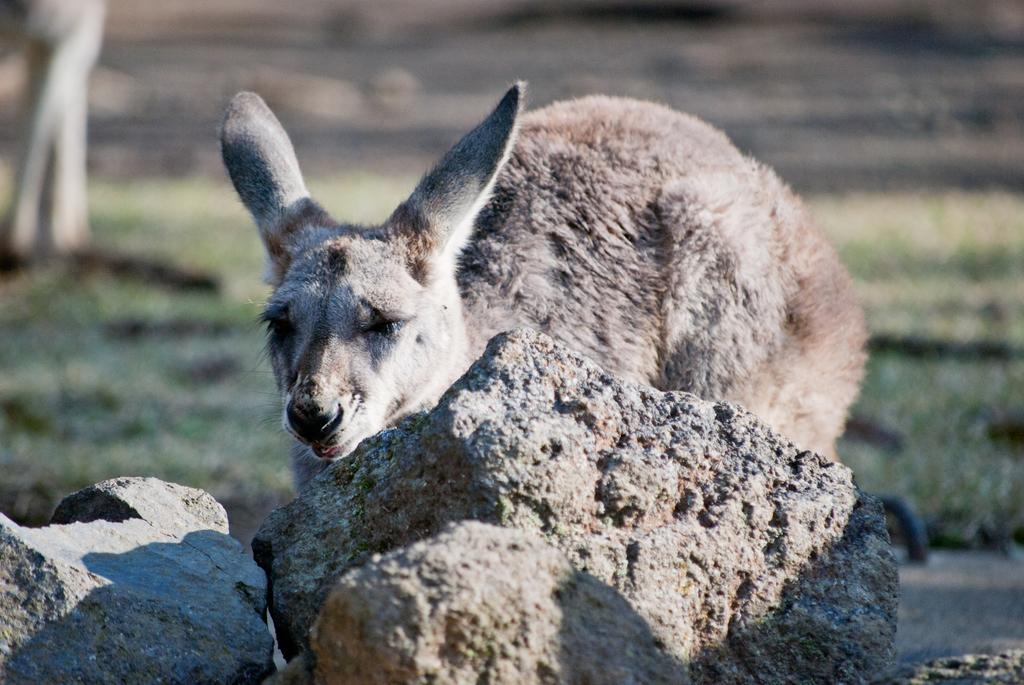kangaroo: (222, 79, 872, 452)
